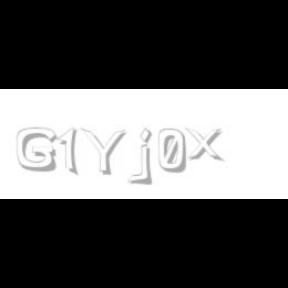0: (158, 128, 189, 174)
1: (57, 128, 79, 176)
G: (17, 128, 57, 172)
Y: (80, 128, 126, 176)
j: (138, 128, 166, 186)
x: (185, 128, 227, 162)
